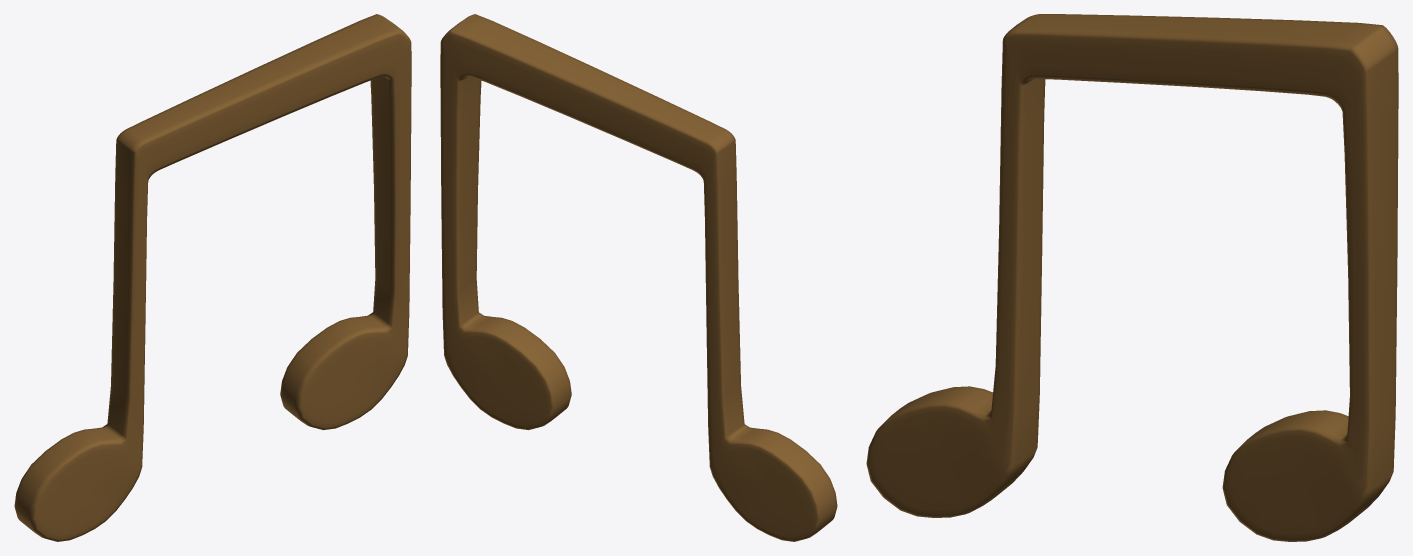
Rendered from MusicNote1.fbx.
3 renders of one model, left to right at view 1: azimuth 30°, elevation 25°; view 2: azimuth 150°, elevation 25°; view 3: azimuth 330°, elevation 25°, orthographic. The views are drawn at different scales.
Visible parts, largest first — view 1: musical note; view 2: musical note; view 3: musical note.
Boxes of the visible parts, x1,y1,x2,y2 form: musical note: [14, 14, 411, 541]; musical note: [440, 14, 837, 541]; musical note: [866, 14, 1398, 541].
Bounding box in the file's own units: 19.01 × 20.78 × 2.11.
